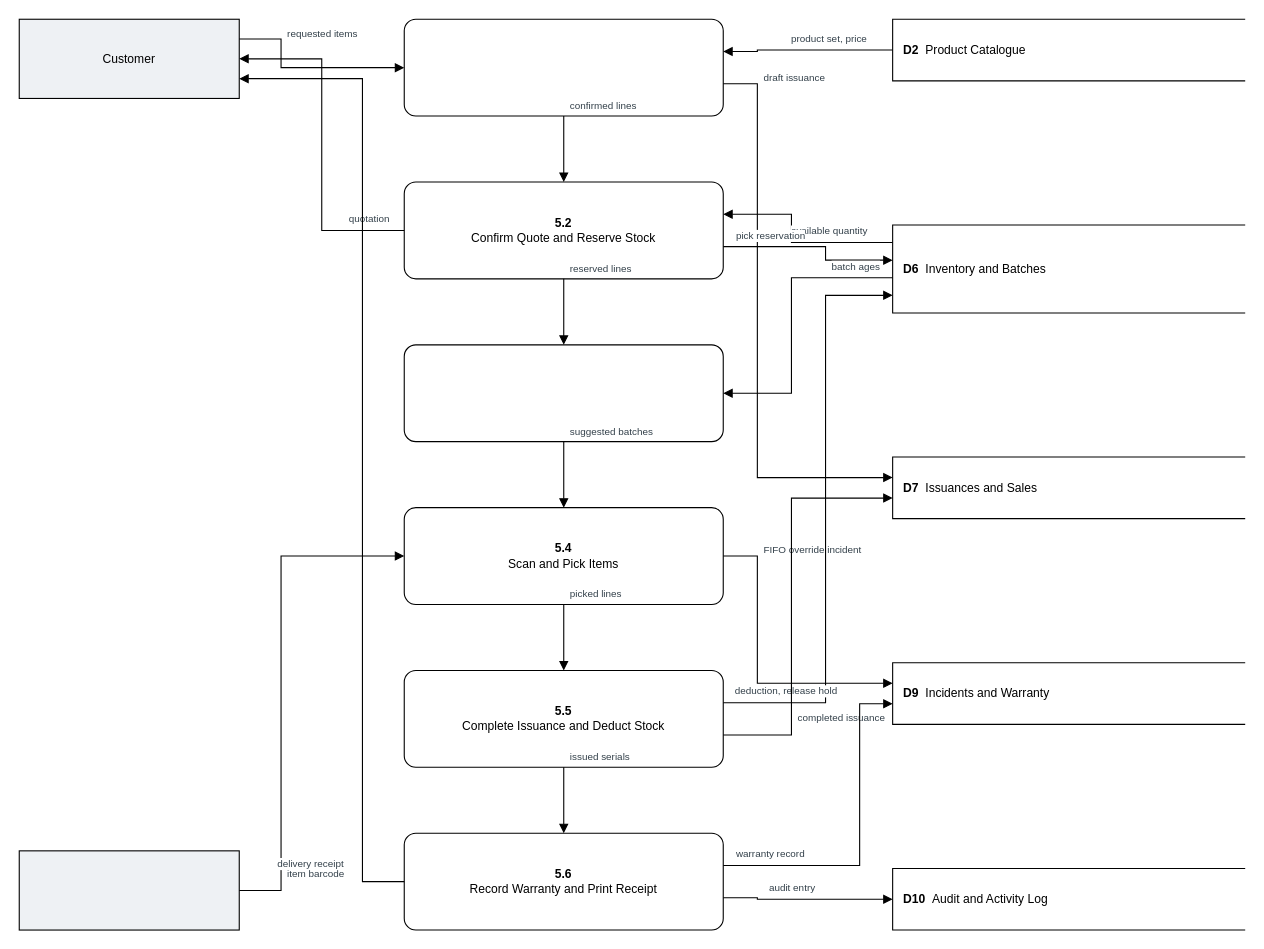
Some shapes in this 1264 by 949 pixel diagram are drawn without their labels. The shapes that lost their labels are listed below. From the top down, each one's box as (x1, y1, x2, y2) in pixels, then its label:
(403, 18, 723, 116): 5.1 Build Quote from Sets or Lines
(403, 344, 723, 442): 5.3 Suggest FIFO Pick Order
(18, 850, 239, 930): Warehouse Personnel
